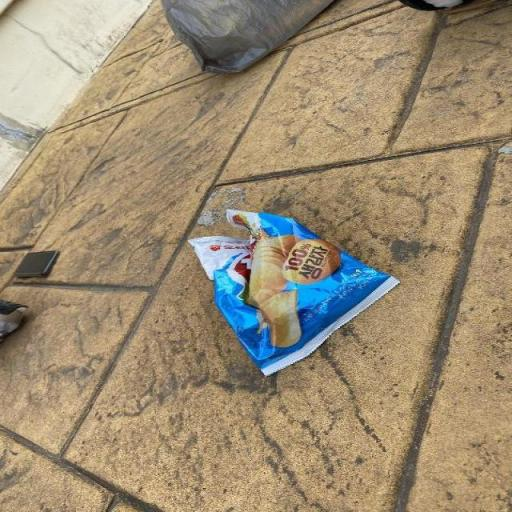plastic-bag: (182, 206, 402, 380)
